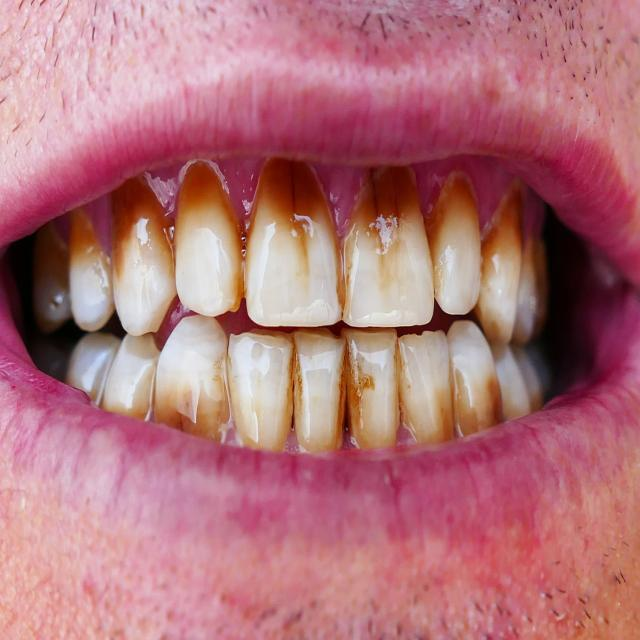LLCI_sdecay: (342, 326, 400, 450)
LLC_sdecay: (450, 320, 505, 426)
LLLI_sdecay: (397, 330, 456, 440)
LRCI_sdecay: (291, 328, 346, 453)
LRC_sdecay: (156, 316, 226, 431)
LRLI_mdecay: (226, 333, 292, 452)
UL1BC_sdecay: (479, 190, 524, 345)
ULCI_sdecay: (341, 169, 434, 327)
ULLI_sdecay: (434, 173, 481, 321)
UR1BC_sdecay: (68, 212, 113, 334)
URCI_sdecay: (244, 164, 342, 327)
URC_sdecay: (113, 185, 174, 336)
URLI_sdecay: (174, 164, 243, 318)
